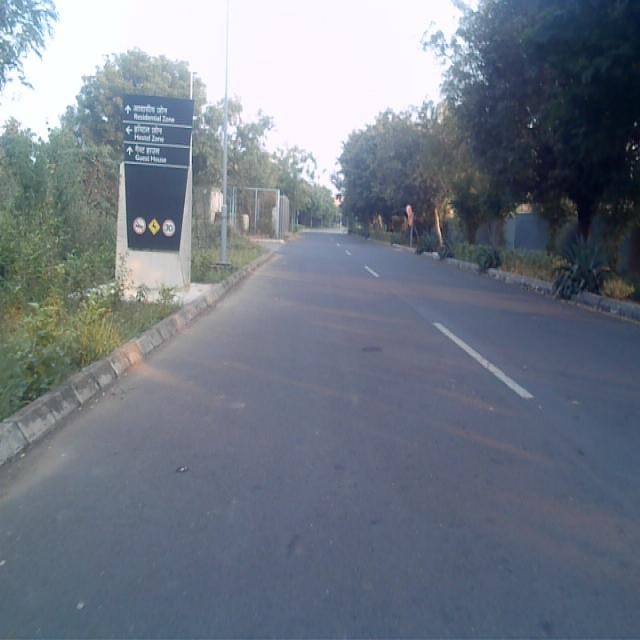lane: (0, 242, 640, 640)
